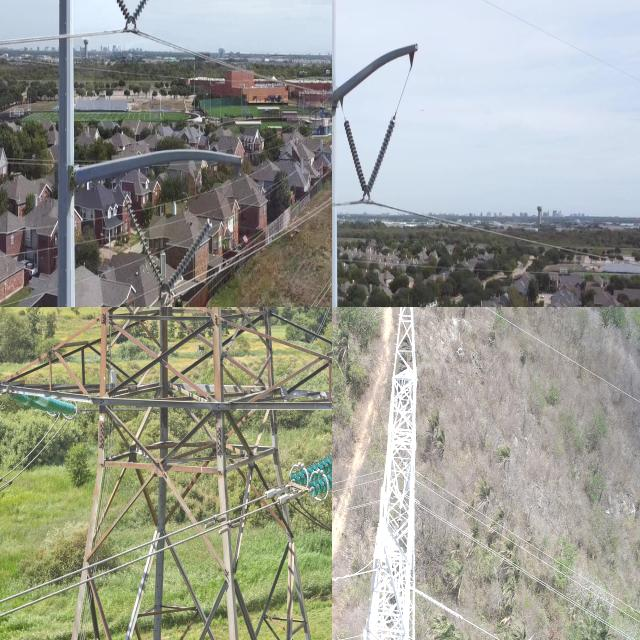杆塔: (62, 307, 332, 640), (351, 307, 439, 640)
正常电缆: (0, 478, 295, 620), (0, 414, 74, 499)
正常绝缘子: (117, 187, 175, 304), (156, 207, 221, 307), (342, 113, 399, 201), (0, 378, 86, 430), (279, 445, 332, 500), (124, 0, 155, 40), (114, 0, 137, 33)
